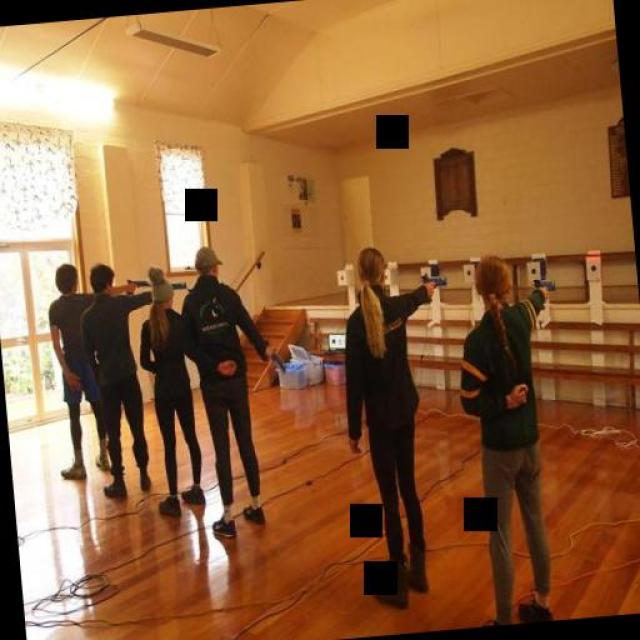gun: (528, 272, 558, 302), (264, 342, 290, 376), (120, 271, 151, 299), (419, 270, 450, 296)
